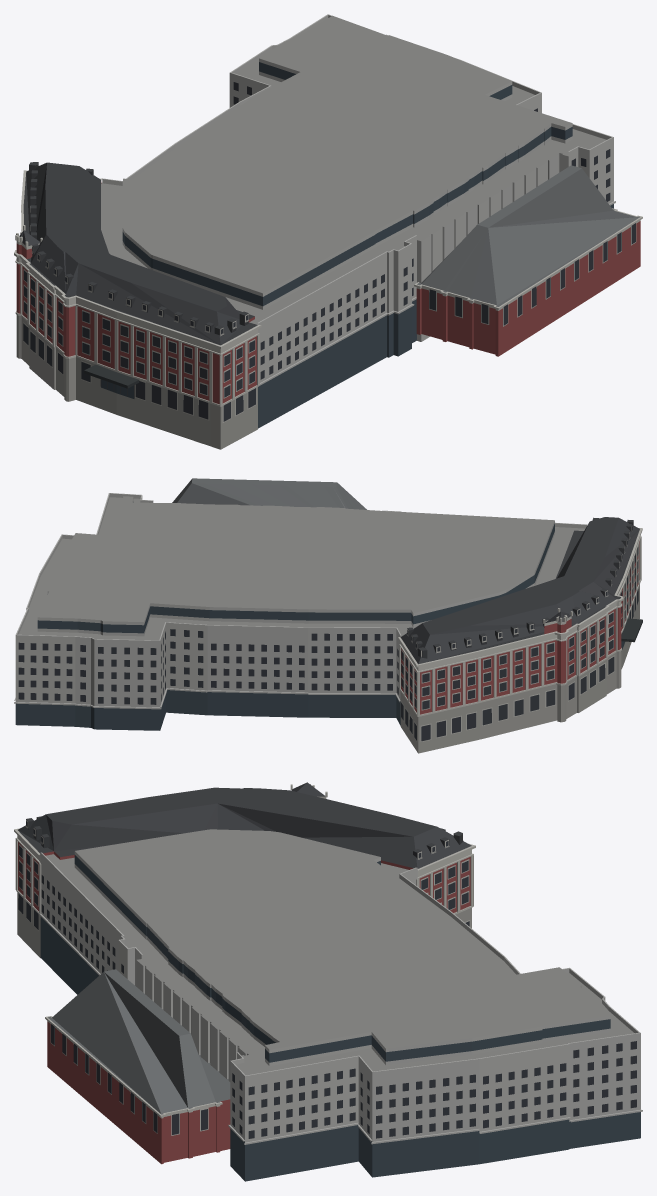
Rendered from palladium.glb.
The picture shows the model from 3 angles, top to bottom: view 1: azimuth 30°, elevation 25°; view 2: azimuth 150°, elevation 25°; view 3: azimuth 270°, elevation 25°; orthographic projection. The views are drawn at different scales.
Visible parts, largest first — view 1: L0, L1; view 2: L0, L1; view 3: L0, L1.
Boxes of the visible parts, left/top/right/bottom form: L0: left=14, top=14, right=642, bottom=449; L1: left=23, top=151, right=635, bottom=408; L0: left=14, top=478, right=642, bottom=753; L1: left=19, top=547, right=637, bottom=730; L0: left=14, top=782, right=642, bottom=1181; L1: left=18, top=845, right=560, bottom=1134.
Bounding box in the file's own units: 153 × 32.1 × 144.
